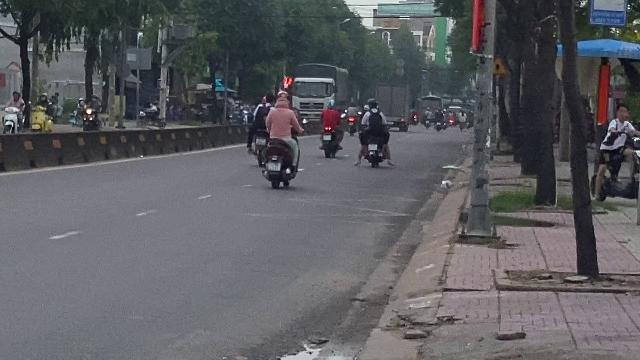nohelmet: (614, 105, 630, 121)
